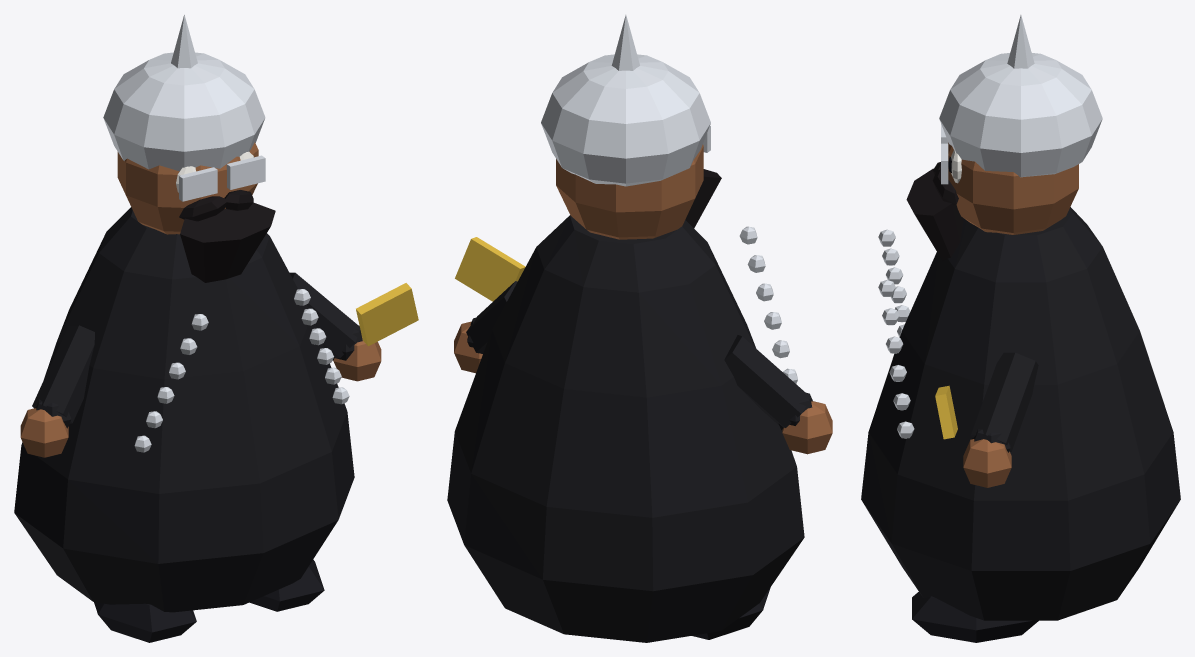
Rendered from npc_cromado.glb.
3 renders of one model, left to right at view 1: azimuth 30°, elevation 25°; view 2: azimuth 150°, elevation 25°; view 3: azimuth 270°, elevation 25°, orthographic. The views are drawn at different scales.
Parts seen in each view (by area): view 1: body_biker_leather, body_jeans_black, cap_chrome, face_beard_black, arms_biker_leather, legs_black, head_skin_cacao, arms_skin_cacao, body_chrome, props_rag_yellow, face_chrome; view 2: body_biker_leather, body_jeans_black, cap_chrome, head_skin_cacao, arms_biker_leather, arms_skin_cacao, props_rag_yellow, body_chrome, face_beard_black, legs_black; view 3: body_biker_leather, body_jeans_black, cap_chrome, head_skin_cacao, arms_biker_leather, face_beard_black, legs_black, body_chrome, arms_skin_cacao, props_rag_yellow.
Part boxes in pixels (x1,y1,x2,y2): body_biker_leather: (21,207,347,493); body_jeans_black: (14,412,354,612); cap_chrome: (103,14,265,171); face_beard_black: (179,190,275,282); arms_biker_leather: (32,272,362,428); legs_black: (94,559,324,642); head_skin_cacao: (117,142,258,234); arms_skin_cacao: (20,337,381,457); body_chrome: (134,289,349,452); props_rag_yellow: (356,283,418,346); face_chrome: (179,155,265,201); body_biker_leather: (455,215,796,517); body_jeans_black: (447,431,804,642); cap_chrome: (541,15,710,186); head_skin_cacao: (556,144,703,239); arms_biker_leather: (466,281,812,430); arms_skin_cacao: (454,321,832,454); props_rag_yellow: (455,237,525,301); body_chrome: (739,226,797,383); face_beard_black: (685,169,721,228); legs_black: (692,587,770,639); body_biker_leather: (868,207,1173,500); body_jeans_black: (861,432,1180,620); cap_chrome: (939,15,1102,177); head_skin_cacao: (948,142,1078,234); arms_biker_leather: (971,352,1038,452); face_beard_black: (906,162,963,260); legs_black: (912,592,1038,642); body_chrome: (878,229,914,438); arms_skin_cacao: (963,439,1011,487); props_rag_yellow: (935,385,957,439).
Bounding box in the file's own units: 1.18 × 1.75 × 0.86.
